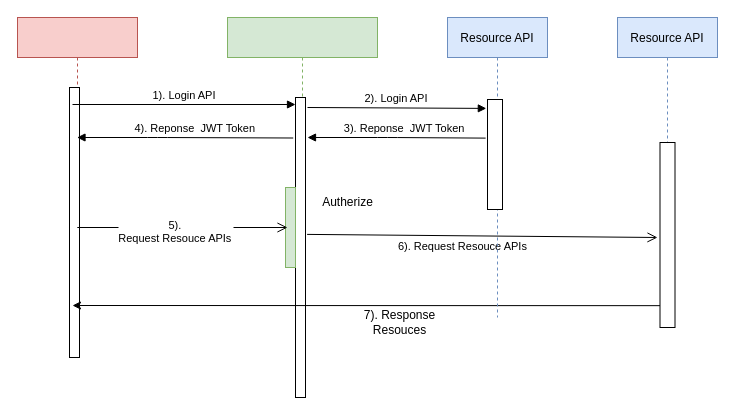
This 735x415 diagram has some shape labels left out. Each missing label, with the box of its shape:
API Gateway: (226, 16, 378, 398)
Mobile App: (16, 16, 138, 358)
